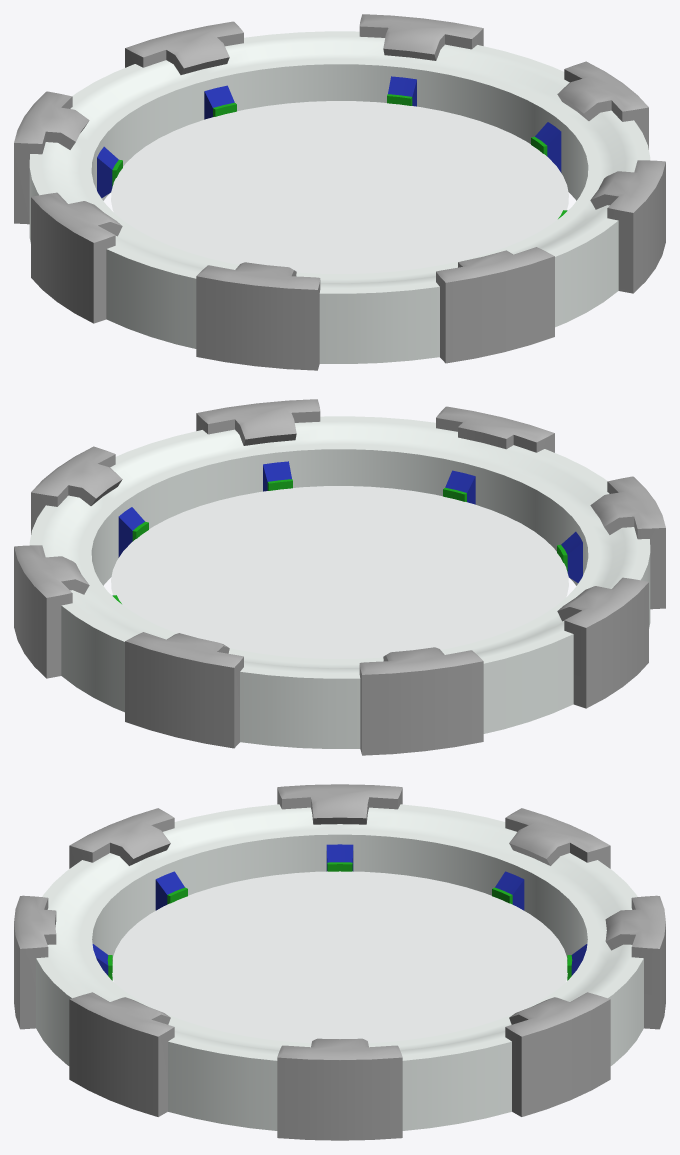
File: Gate.fbx
The picture shows the model from 3 angles, top to bottom: view 1: azimuth 30°, elevation 25°; view 2: azimuth 150°, elevation 25°; view 3: azimuth 270°, elevation 25°; orthographic projection.
Visible parts, largest first — view 1: Tube, Hologram, Locks, EmitterBase, Emitters; view 2: Tube, Hologram, Locks, EmitterBase, Emitters; view 3: Tube, Hologram, Locks, EmitterBase, Emitters.
Part boxes in pixels (x1,y1,x2,y2): Tube: [29, 31, 650, 363]; Hologram: [111, 101, 568, 273]; Locks: [14, 14, 665, 370]; EmitterBase: [97, 76, 567, 210]; Emitters: [112, 94, 566, 218]; Tube: [29, 416, 650, 748]; Hologram: [111, 486, 568, 658]; Locks: [14, 399, 665, 755]; EmitterBase: [112, 461, 582, 595]; Emitters: [113, 479, 567, 603]; Tube: [36, 804, 643, 1130]; Hologram: [112, 871, 567, 1043]; Locks: [14, 784, 665, 1140]; EmitterBase: [92, 844, 587, 975]; Emitters: [107, 862, 572, 980].
Bounding box in the file's own units: 1683 × 236 × 1683.
